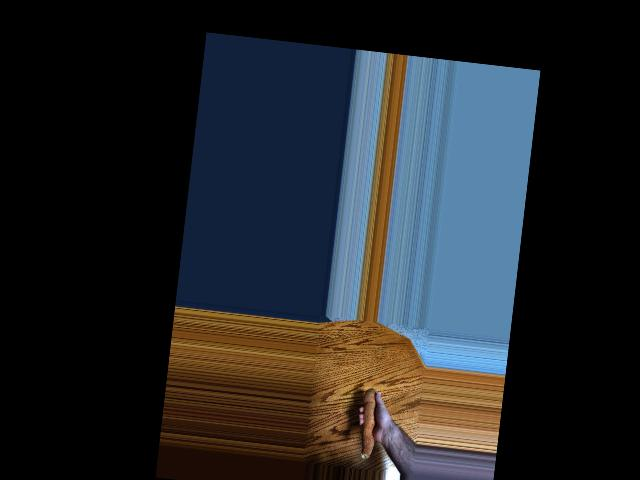sweet_potato: (353, 382, 385, 461)
